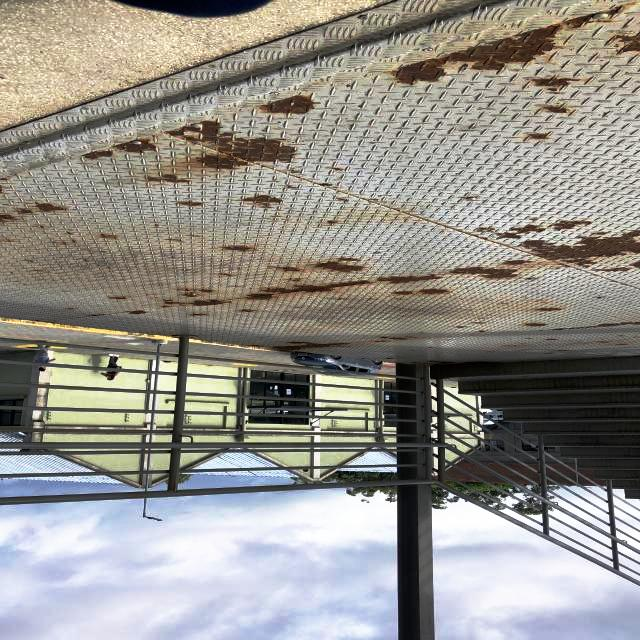Corrosion: (382, 22, 565, 86), (163, 120, 297, 170), (517, 230, 640, 266), (258, 280, 376, 294), (561, 5, 624, 29), (258, 95, 322, 114), (449, 267, 520, 279), (549, 322, 640, 331), (109, 138, 157, 154), (270, 341, 352, 350), (494, 225, 546, 239), (612, 30, 640, 55), (311, 261, 369, 273), (376, 274, 444, 284), (242, 195, 283, 209), (531, 77, 582, 88), (29, 201, 71, 213), (142, 174, 190, 184), (550, 220, 592, 231), (188, 299, 232, 306), (80, 150, 113, 159), (218, 245, 259, 252), (241, 293, 281, 300), (541, 105, 571, 114), (418, 288, 450, 295), (450, 361, 504, 365), (501, 260, 534, 266), (271, 266, 303, 272), (0, 213, 21, 222), (175, 200, 203, 206), (591, 268, 632, 272), (334, 257, 362, 262), (525, 133, 548, 139), (376, 336, 409, 340), (124, 310, 149, 315), (476, 226, 496, 232), (99, 233, 119, 239), (534, 307, 563, 311), (15, 208, 34, 214), (428, 360, 455, 364), (181, 292, 202, 297), (523, 323, 548, 327), (162, 301, 187, 305), (629, 261, 640, 269), (392, 291, 414, 295), (197, 289, 217, 293), (590, 231, 609, 235), (326, 167, 343, 171), (218, 273, 235, 277), (188, 313, 210, 316), (108, 296, 130, 299), (30, 270, 52, 273), (317, 183, 333, 187), (0, 185, 7, 194), (33, 224, 45, 229), (373, 340, 392, 343), (238, 309, 257, 312), (163, 239, 181, 242), (286, 185, 299, 189), (429, 363, 445, 366), (543, 338, 559, 341), (596, 340, 612, 343), (504, 345, 526, 347), (546, 88, 557, 92), (561, 264, 571, 268), (552, 92, 565, 95), (90, 314, 108, 316), (184, 235, 201, 237), (290, 171, 301, 174), (327, 221, 338, 224), (181, 288, 192, 291), (461, 64, 469, 68), (285, 279, 301, 281), (60, 241, 68, 245), (525, 278, 540, 280), (529, 218, 539, 221), (336, 198, 346, 201), (160, 305, 175, 307), (189, 289, 199, 292), (229, 285, 243, 287), (2, 240, 16, 242), (478, 237, 487, 240), (456, 326, 469, 328), (474, 322, 487, 324), (404, 336, 417, 338), (65, 308, 78, 310), (409, 362, 421, 364), (582, 265, 590, 268), (345, 84, 351, 88), (164, 299, 172, 302), (71, 239, 77, 243), (367, 199, 378, 201), (23, 260, 34, 262), (0, 178, 11, 180), (67, 231, 74, 234), (517, 343, 527, 345), (276, 139, 286, 141), (486, 351, 495, 353), (373, 252, 382, 254), (260, 165, 269, 167), (479, 330, 487, 332), (610, 280, 618, 282), (627, 3, 635, 5), (179, 304, 187, 306), (338, 298, 346, 300), (268, 216, 283, 217), (154, 224, 159, 227), (618, 335, 625, 337), (435, 223, 442, 225), (367, 298, 374, 300), (100, 251, 107, 253), (247, 345, 260, 346), (615, 344, 628, 345), (49, 242, 62, 243), (388, 356, 394, 358), (558, 263, 564, 265), (592, 274, 598, 276), (389, 219, 401, 220), (293, 278, 305, 279), (558, 350, 569, 351), (569, 277, 574, 279), (343, 199, 348, 201), (367, 201, 372, 203), (12, 174, 17, 176), (174, 289, 183, 290), (526, 338, 534, 339), (544, 353, 552, 354), (463, 68, 467, 70), (291, 169, 295, 171), (291, 168, 295, 170), (36, 320, 40, 322), (7, 176, 11, 178), (10, 272, 14, 274), (385, 358, 392, 359), (633, 336, 640, 337), (289, 277, 292, 279), (295, 307, 301, 308), (108, 267, 111, 269), (13, 281, 19, 282), (275, 181, 280, 182), (556, 103, 560, 104), (575, 269, 579, 270), (555, 267, 559, 268), (248, 288, 252, 289), (145, 294, 148, 295), (23, 284, 26, 285), (292, 319, 294, 320), (88, 315, 90, 316), (0, 241, 1, 243)
